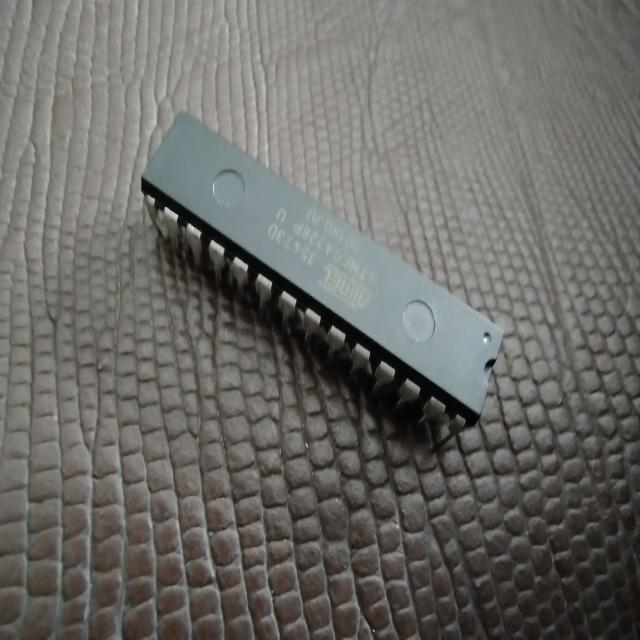atmega: (138, 108, 506, 432)
